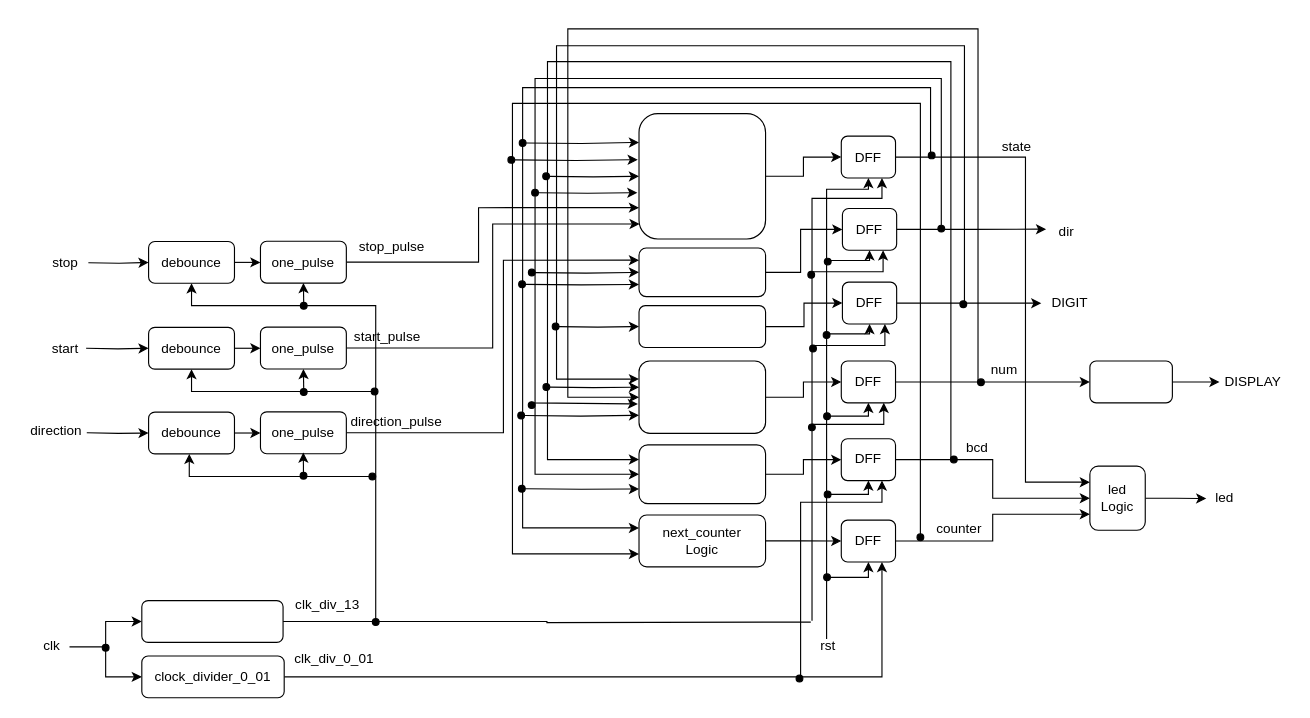
This 1310x718 diagram has some shape labels left out. The shapes that lost their labels are listed below. From the top down, each one's centre as x and y in pixels, then its label:
point 702,175: next_state Logic
point 702,272: next_dir Logic
point 702,326: next_DIGIT Logic
point 702,396: next_num Logic
point 1130,381: DISPLAY Logic
point 702,474: next_bcd Logic
point 212,620: clock_divider
